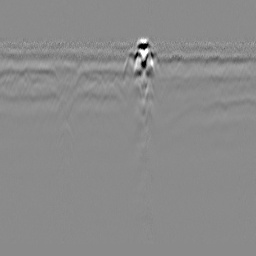cavity: (122, 55, 134, 77)
